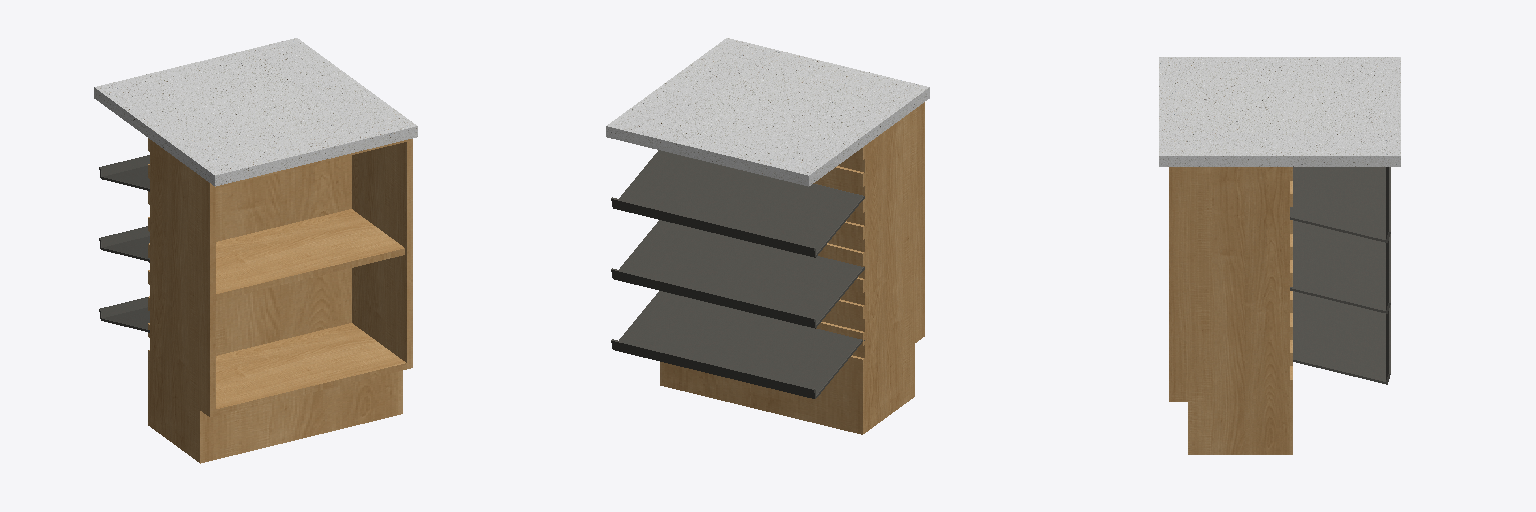
The picture shows the model from 3 angles: view 1: azimuth 30°, elevation 25°; view 2: azimuth 150°, elevation 25°; view 3: azimuth 270°, elevation 25°; orthographic projection.
Visible parts, largest first — view 1: Body_2, Body_1, Body_3, Body_4, Body_5; view 2: Body_2, Body_1, Body_4, Body_5, Body_3; view 3: Body_2, Body_1, Body_4, Body_5, Body_3.
Part boxes in pixels (left/top/right/bottom): Body_2: left=148, top=138, right=412, bottom=463; Body_1: left=94, top=38, right=417, bottom=186; Body_3: left=99, top=155, right=149, bottom=191; Body_4: left=99, top=226, right=149, bottom=262; Body_5: left=99, top=297, right=149, bottom=332; Body_2: left=660, top=102, right=924, bottom=434; Body_1: left=606, top=38, right=929, bottom=186; Body_4: left=611, top=220, right=864, bottom=328; Body_5: left=611, top=291, right=864, bottom=398; Body_3: left=611, top=150, right=864, bottom=257; Body_2: left=1169, top=167, right=1292, bottom=454; Body_1: left=1159, top=57, right=1400, bottom=166; Body_4: left=1290, top=220, right=1390, bottom=313; Body_5: left=1293, top=291, right=1390, bottom=384; Body_3: left=1290, top=167, right=1390, bottom=242.
Bounding box in the file's own units: 0.6096 × 0.8572 × 0.6287.
3 materials, 3 textured.